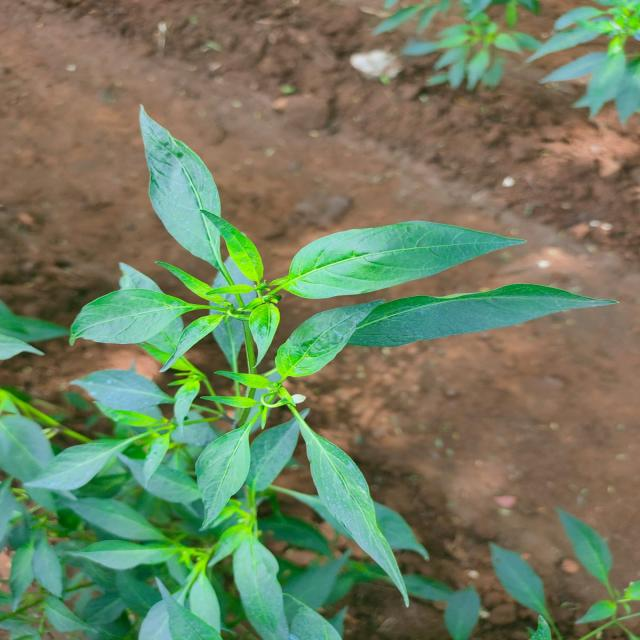Mosaic_virus: (0, 222, 492, 640)
